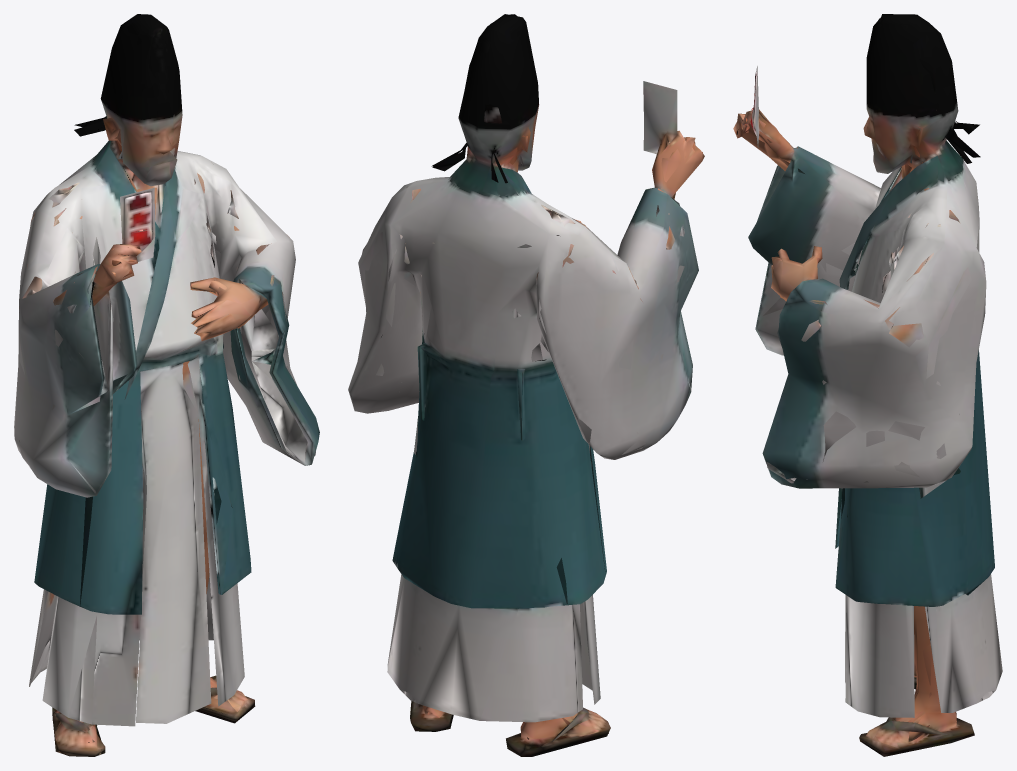
Rendered from detail_6_lo.glb.
The picture shows the model from 3 angles, left to right: view 1: azimuth 30°, elevation 25°; view 2: azimuth 150°, elevation 25°; view 3: azimuth 270°, elevation 25°; orthographic projection.
Parts seen in each view (by area): view 1: Mesh_0.001; view 2: Mesh_0.001; view 3: Mesh_0.001.
Boxes of the visible parts, <box> form: Mesh_0.001: <box>14,14,319,756</box>; Mesh_0.001: <box>348,14,704,756</box>; Mesh_0.001: <box>733,14,1002,756</box>.
Bounding box in the file's own units: 0.4087 × 0.999 × 0.3508.
1 material, 1 textured.
